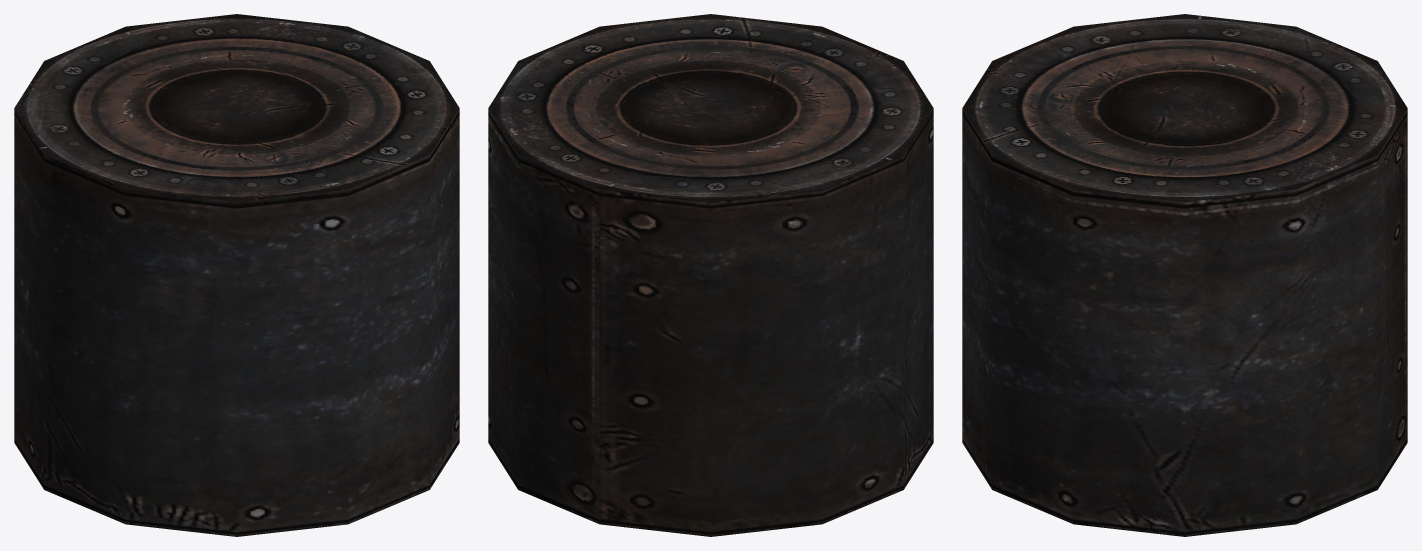
File: tesla_props_pipes_02_cap.dae
The picture shows the model from 3 angles, left to right: view 1: azimuth 30°, elevation 25°; view 2: azimuth 150°, elevation 25°; view 3: azimuth 270°, elevation 25°; orthographic projection.
Parts seen in each view (by area): view 1: polySurface394; view 2: polySurface394; view 3: polySurface394.
Boxes of the visible parts, x1,y1,x2,y2 form: polySurface394: [14, 14, 459, 536]; polySurface394: [488, 14, 933, 536]; polySurface394: [962, 14, 1407, 536].
Bounding box in the file's own units: 0.9058 × 0.7516 × 0.9058.
